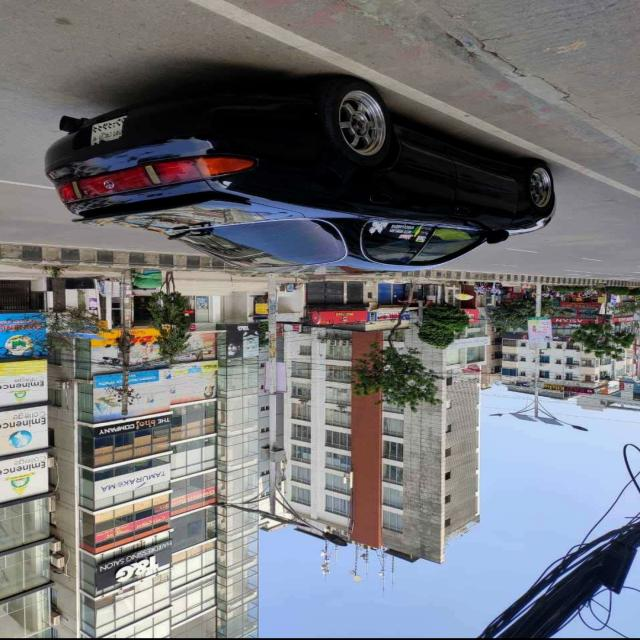black: (36, 77, 561, 279)
